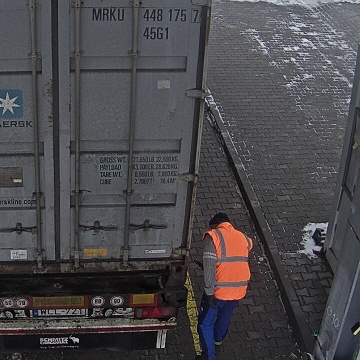serial_id: (92, 8, 199, 22)
